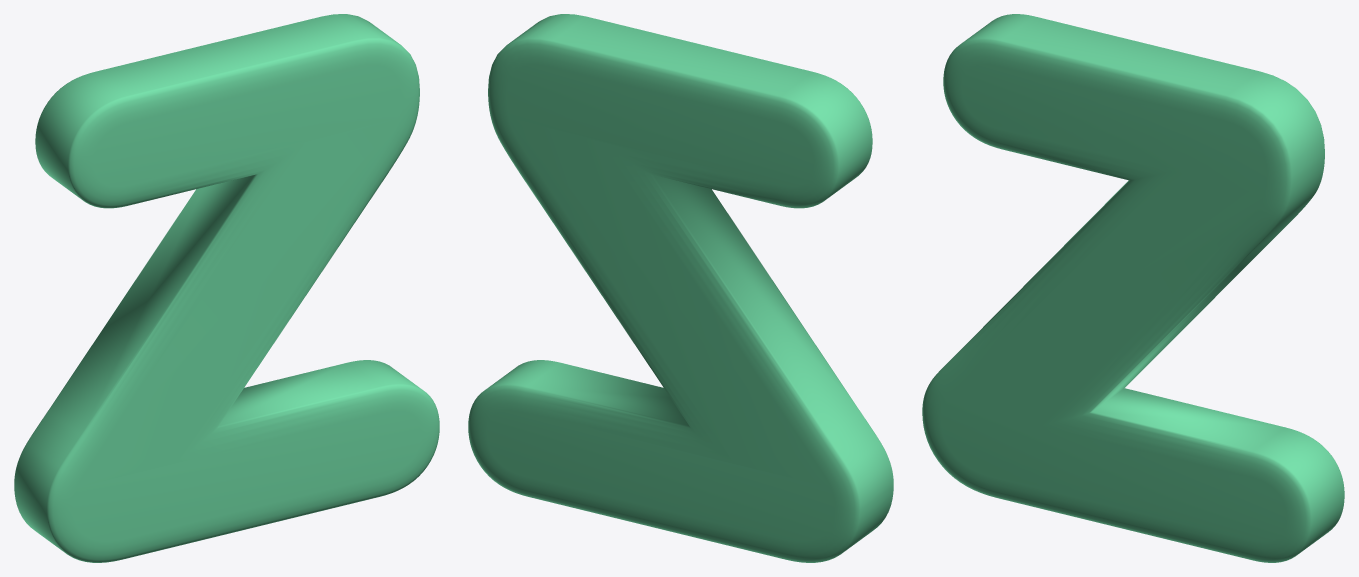
File: RA_Letter_Z.fbx
3 views of the same model, side by side, from view 1: azimuth 30°, elevation 25°; view 2: azimuth 150°, elevation 25°; view 3: azimuth 330°, elevation 25° (orthographic).
Parts seen in each view (by area): view 1: RA_Letter_Z; view 2: RA_Letter_Z; view 3: RA_Letter_Z.
Part boxes in pixels (<box>): RA_Letter_Z: <box>14,14,439,562</box>; RA_Letter_Z: <box>468,14,893,562</box>; RA_Letter_Z: <box>922,14,1344,562</box>.
Bounding box in the file's own units: 160 × 180 × 28.
